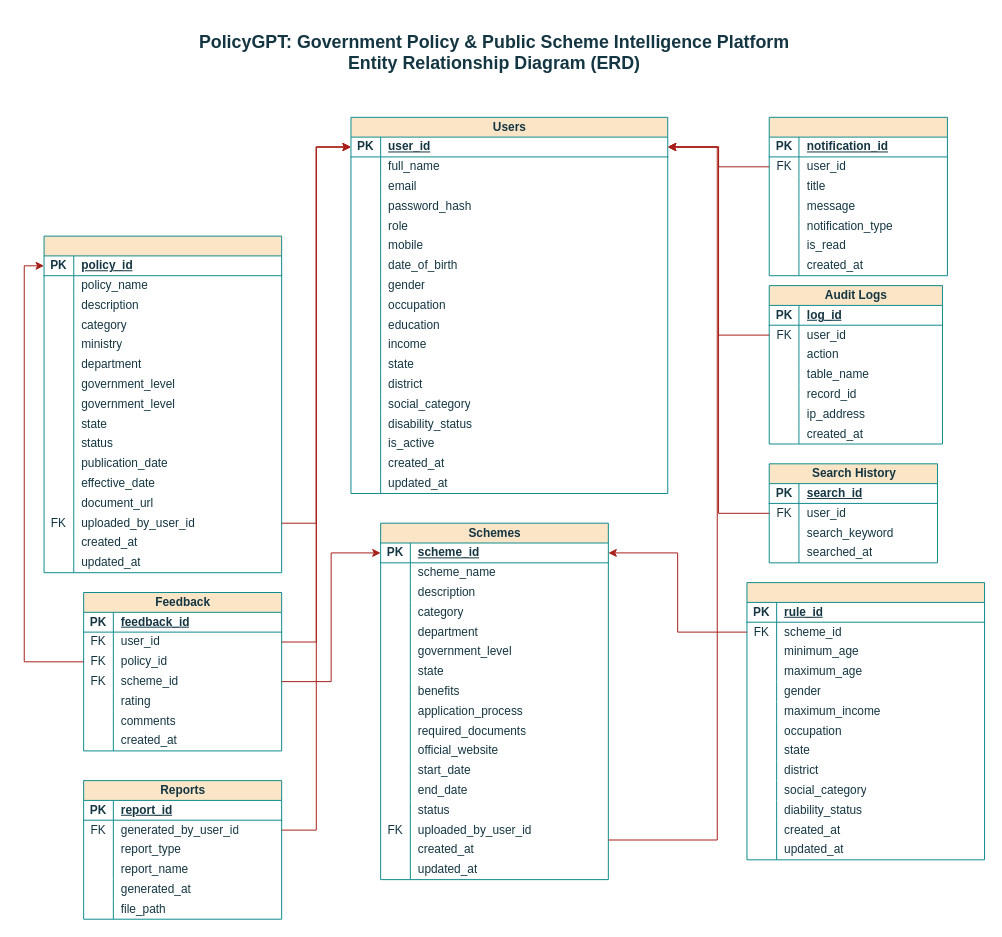
Some shapes in this 1002 by 937 pixel diagram are drawn without their labels. Here are the shapes that lost their labels. From the top down, the box of each, then its label:
(768, 116, 947, 276): Notifications
(43, 235, 282, 573): Policies
(746, 582, 985, 860): Eligibility Rules
